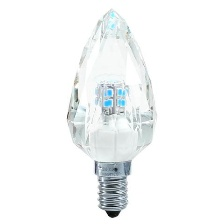light_bulb: (59, 3, 164, 220)
